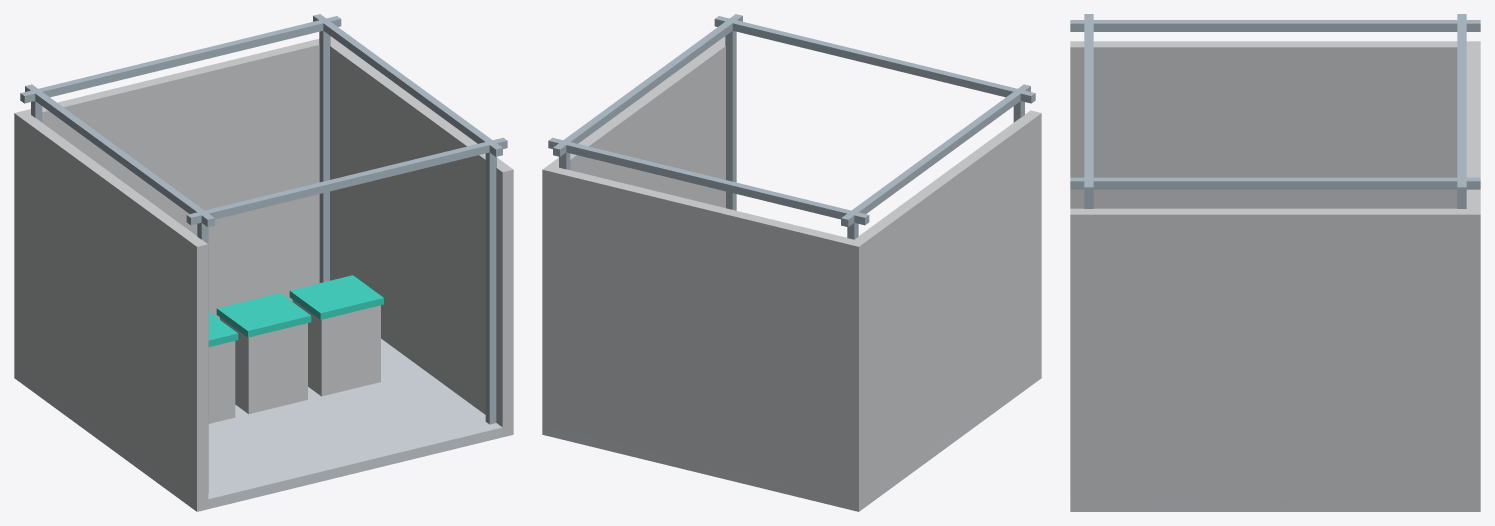
The picture shows the model from 3 angles, left to right: view 1: azimuth 30°, elevation 25°; view 2: azimuth 150°, elevation 25°; view 3: azimuth 270°, elevation 25°; orthographic projection. The views are drawn at different scales.
Visible parts, largest first — view 1: Exhibition Booth Concept; view 2: Exhibition Booth Concept; view 3: Exhibition Booth Concept.
Part boxes in pixels (x1,y1,x2,y2): Exhibition Booth Concept: (14, 14, 513, 511); Exhibition Booth Concept: (542, 14, 1041, 511); Exhibition Booth Concept: (1070, 14, 1480, 511).
Bounding box in the file's own units: 4 × 3.49 × 4.
